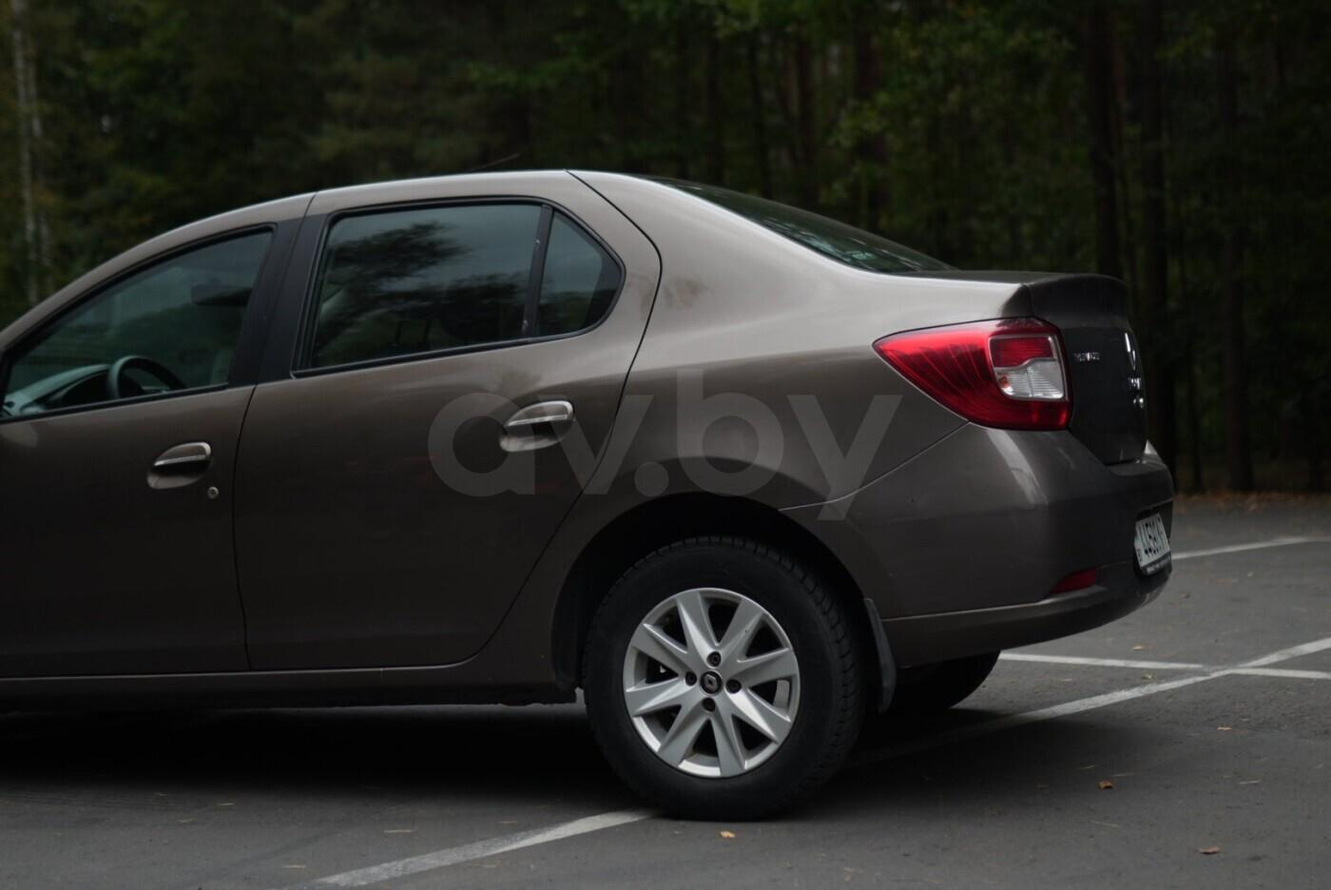Logan_2018: (6, 164, 1181, 819)
